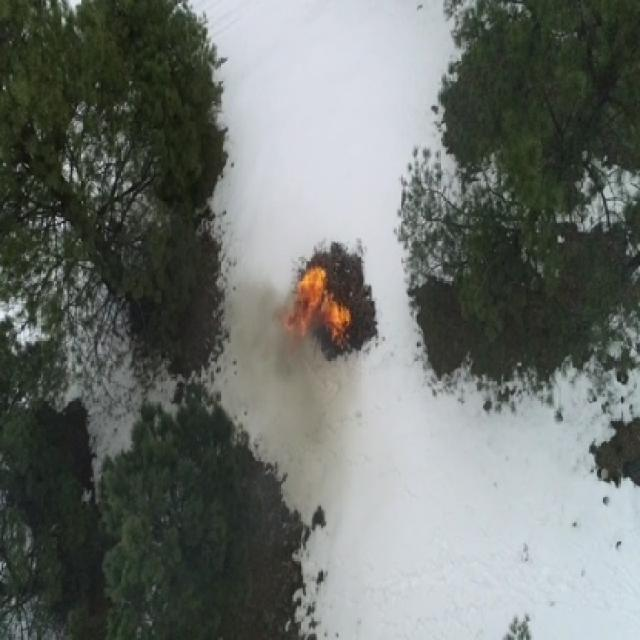Fire: (318, 294, 346, 344), (294, 266, 324, 308), (311, 305, 351, 326), (288, 306, 308, 339)
